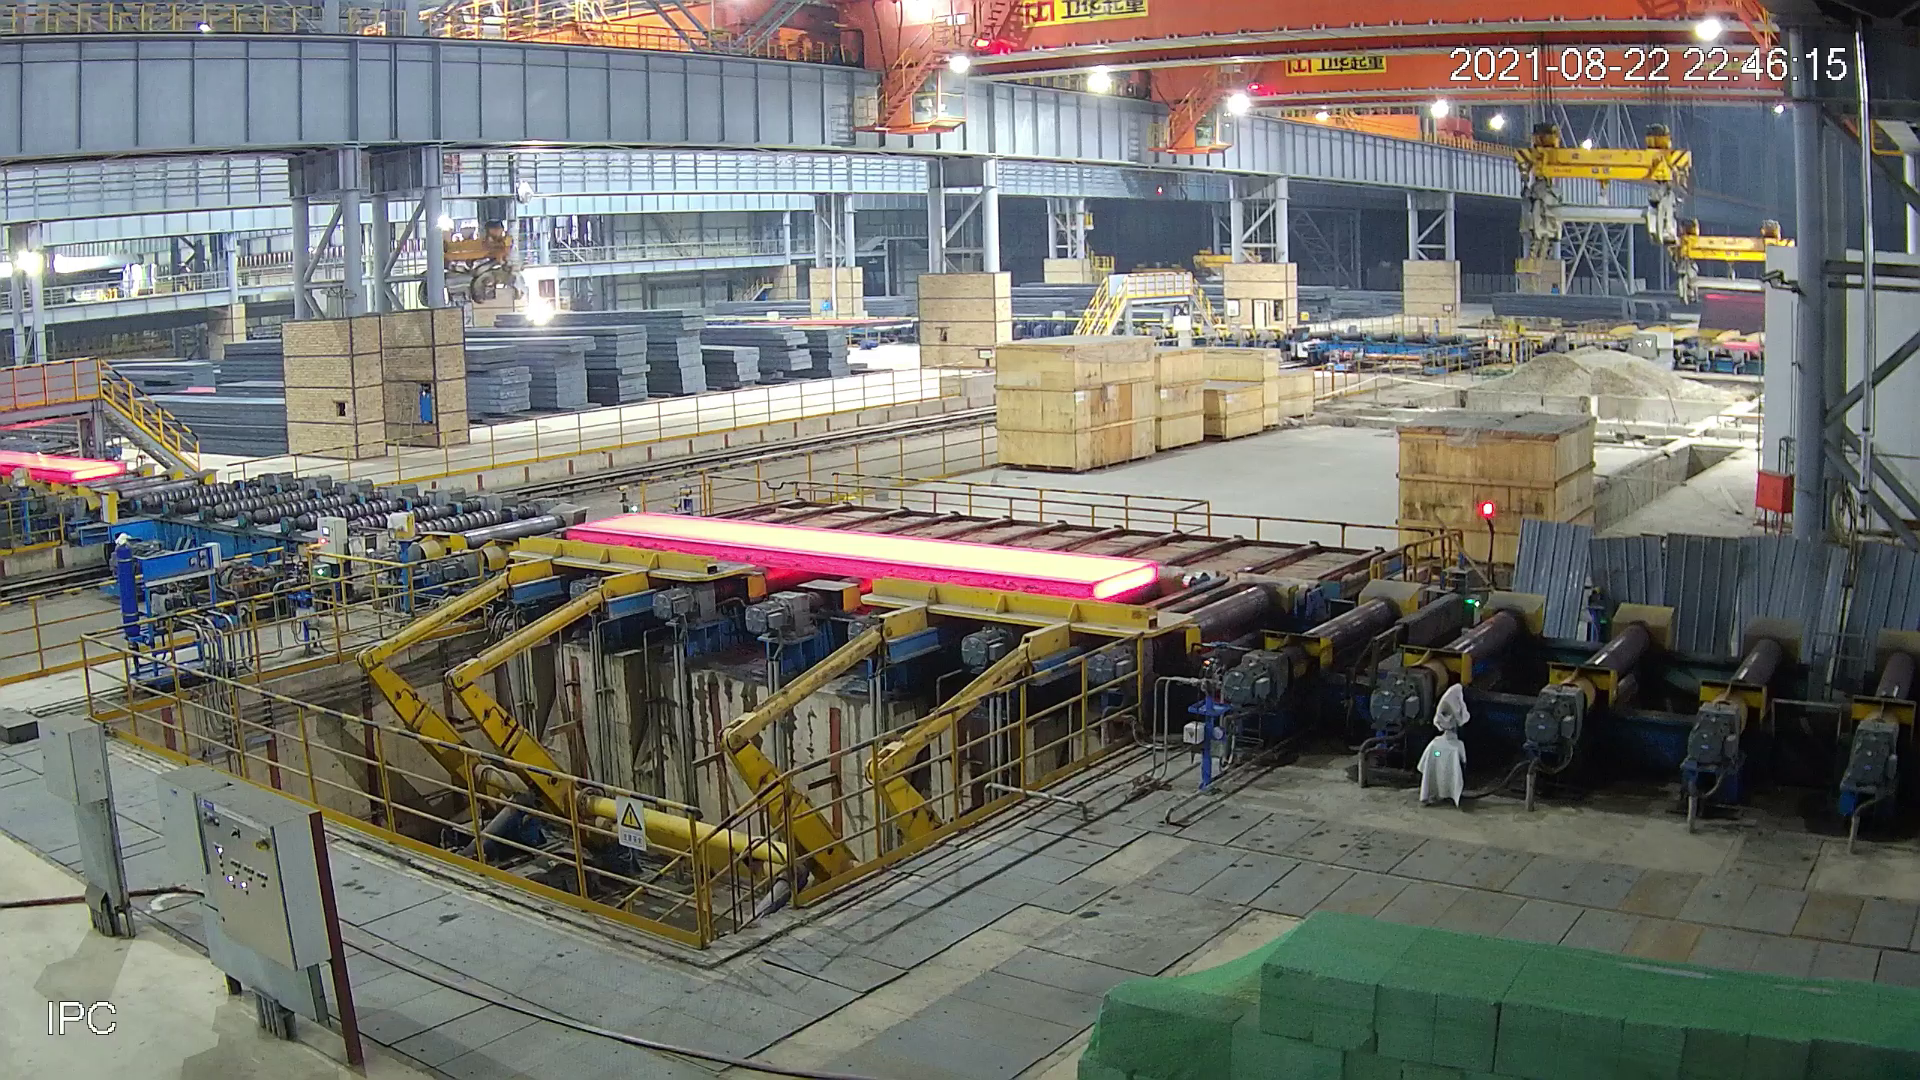slab: (564, 510, 1158, 603), (1, 447, 127, 481)
